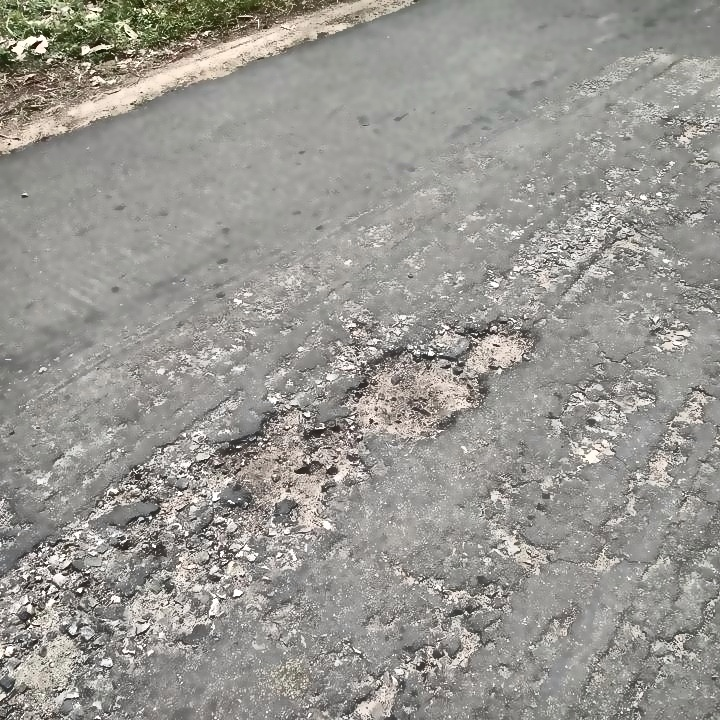pothole: (204, 399, 363, 523), (337, 345, 484, 442), (458, 319, 538, 374)
